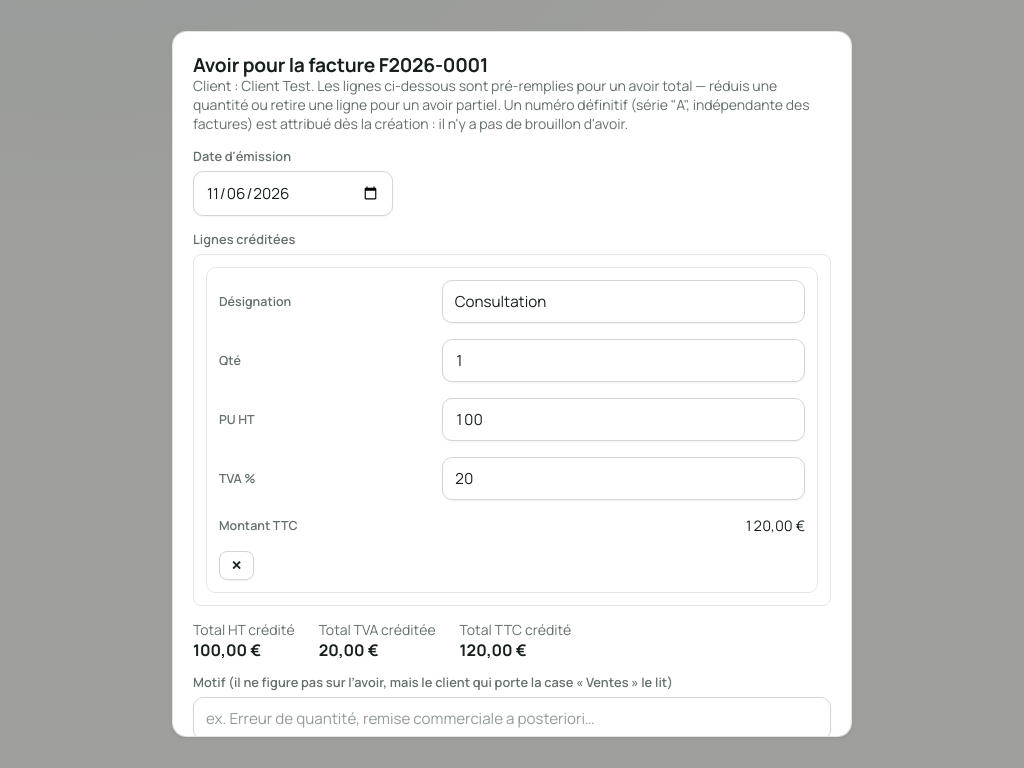
Test: FactureAvoirModal — la date d’émission, dans l’espace « cabinet » › une date antérieure au plus récent avoir validé de sa série : le cabinet le nomme (MA) ; le client se tait, la base juge
The width and height of the screenshot is (1024, 768).
Expected: the field showing "Consultation" is shown, [442,280,805,323]
Type "2026-10-05" into the date field with id "avoir-date" at (293, 193), box [193,171,393,216]
(page scrolled)
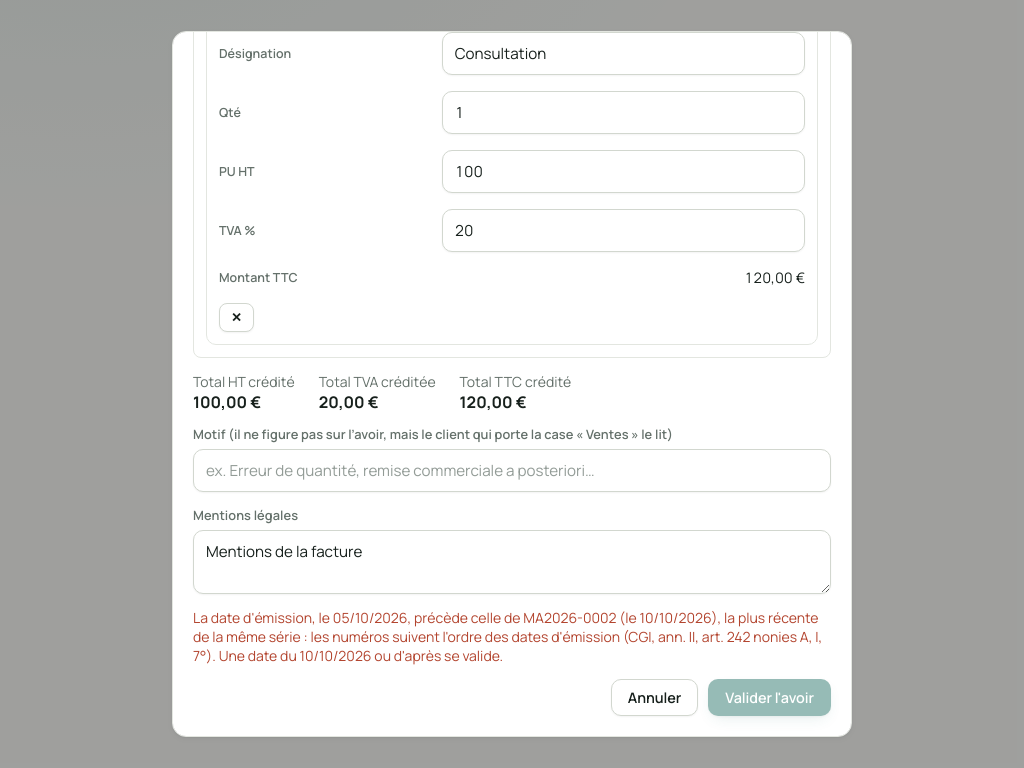
Expected: the text "La date d'émission" shows "La date d'émission, le 05/10/2026, précède celle de MA2026-0002 (le 10/10/2026), la plus récente de la même série", [193,608,822,665]
Expected: the button "Valider l'avoir" is disabled, [708,679,831,716]
